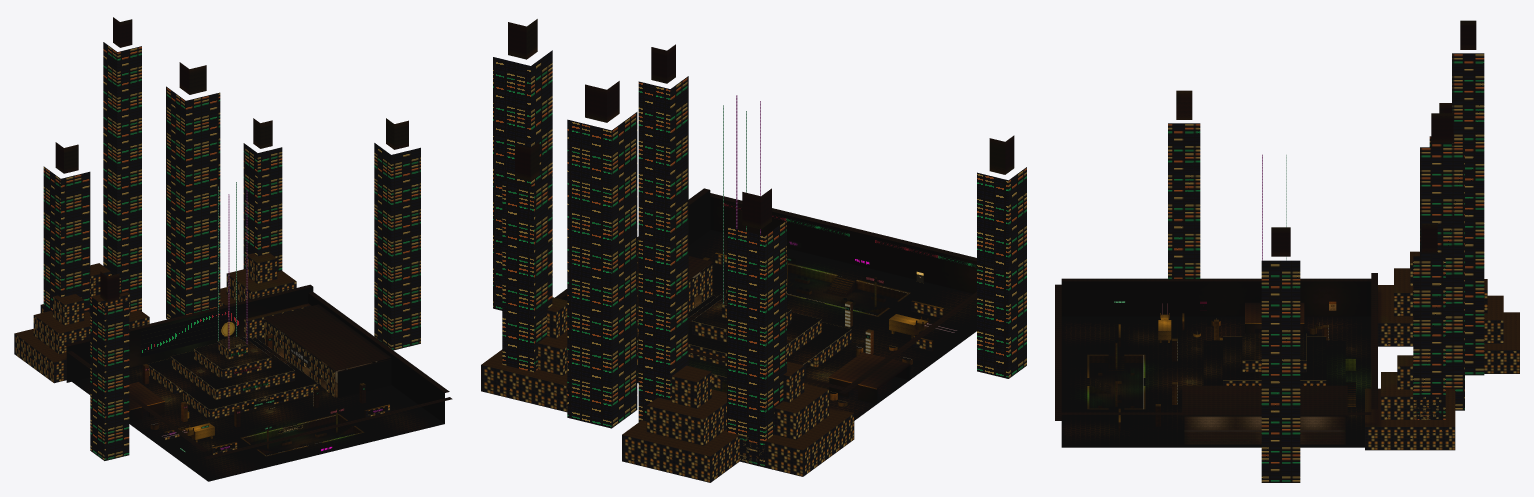
File: cryptidD.glb
3 views of the same model, side by side, from view 1: azimuth 30°, elevation 25°; view 2: azimuth 150°, elevation 25°; view 3: azimuth 270°, elevation 25° (orthographic). The views are drawn at different scales.
Parts seen in each view (by area): view 1: cryptidD_tower, cryptidD_black_marble, cryptidD_black_glass, cryptidD_gold_dark, cryptidD_gold, cryptidD_dark_wall, cryptidD_candles, cryptidD_pit_floor, cryptidD_neon_gold, cryptidD_neon_magenta; view 2: cryptidD_tower, cryptidD_black_glass, cryptidD_black_marble, cryptidD_gold, cryptidD_dark_wall, cryptidD_gold_dark, cryptidD_pit_floor, cryptidD_neon_gold; view 3: cryptidD_tower, cryptidD_black_marble, cryptidD_gold_dark, cryptidD_dark_wall, cryptidD_gold, cryptidD_black_glass, cryptidD_gallery_floor, cryptidD_pit_floor.
Part boxes in pixels (bbox=[...]): cryptidD_tower: bbox=[43, 42, 420, 460]; cryptidD_black_marble: bbox=[72, 336, 444, 481]; cryptidD_black_glass: bbox=[14, 255, 390, 454]; cryptidD_gold_dark: bbox=[64, 284, 452, 459]; cryptidD_gold: bbox=[14, 17, 408, 456]; cryptidD_dark_wall: bbox=[66, 287, 444, 423]; cryptidD_candles: bbox=[140, 307, 239, 356]; cryptidD_pit_floor: bbox=[250, 421, 355, 455]; cryptidD_neon_gold: bbox=[149, 336, 335, 438]; cryptidD_neon_magenta: bbox=[228, 190, 247, 348]; cryptidD_tower: bbox=[493, 50, 1026, 467]; cryptidD_black_glass: bbox=[481, 253, 942, 482]; cryptidD_black_marble: bbox=[637, 229, 976, 420]; cryptidD_gold: bbox=[481, 19, 1014, 456]; cryptidD_dark_wall: bbox=[561, 190, 976, 404]; cryptidD_gold_dark: bbox=[555, 188, 976, 393]; cryptidD_pit_floor: bbox=[787, 272, 899, 315]; cryptidD_neon_gold: bbox=[637, 264, 911, 402]; cryptidD_tower: bbox=[1168, 53, 1484, 482]; cryptidD_black_marble: bbox=[1061, 316, 1371, 447]; cryptidD_gold_dark: bbox=[1055, 273, 1377, 430]; cryptidD_dark_wall: bbox=[1061, 281, 1371, 333]; cryptidD_gold: bbox=[1087, 20, 1519, 442]; cryptidD_black_glass: bbox=[1223, 262, 1519, 450]; cryptidD_gallery_floor: bbox=[1184, 416, 1345, 444]; cryptidD_pit_floor: bbox=[1089, 363, 1145, 408].
Size of the model in its own units: 145 by 125 by 144.
Materials: 52 (52 with a texture image).
